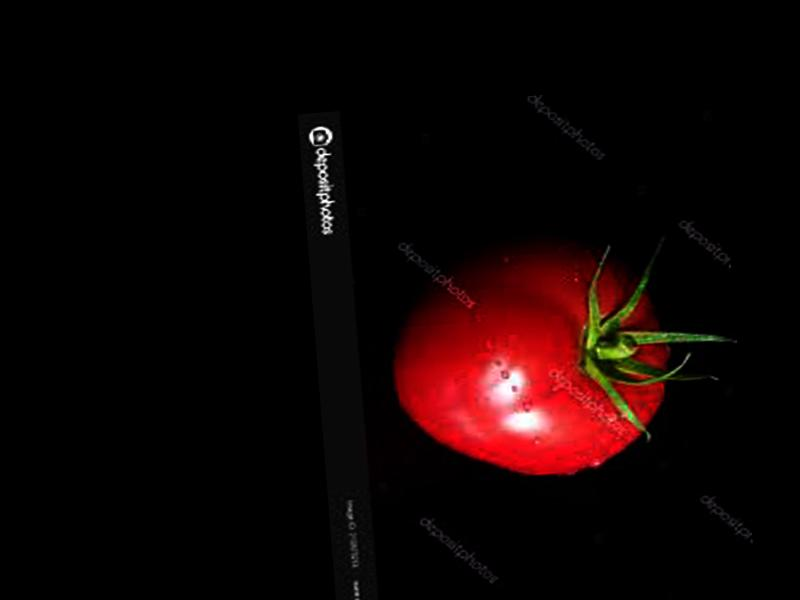Tomato: (384, 226, 677, 488)
